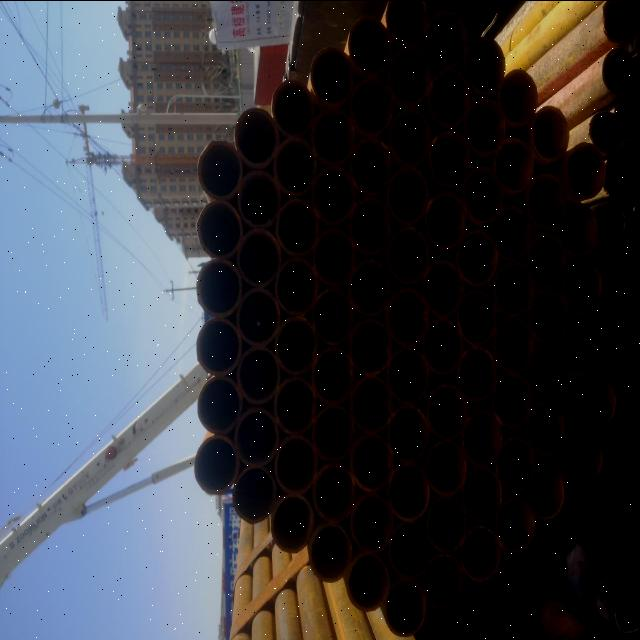pipe: (195, 258, 242, 318), (192, 436, 238, 496), (196, 376, 242, 434), (196, 318, 242, 376), (196, 200, 242, 258), (198, 140, 242, 200), (236, 344, 280, 404), (236, 286, 280, 346), (234, 108, 278, 168), (270, 494, 314, 554), (274, 434, 318, 494), (274, 316, 318, 376), (274, 256, 318, 316), (275, 197, 319, 257), (273, 136, 317, 196), (311, 165, 355, 225), (350, 493, 394, 553), (385, 286, 429, 346), (426, 68, 470, 128), (312, 463, 355, 523), (350, 434, 393, 494), (349, 136, 392, 196), (232, 465, 276, 523), (234, 408, 278, 466), (237, 228, 281, 286), (272, 376, 316, 434), (311, 404, 355, 462), (311, 107, 355, 165), (346, 554, 390, 612), (348, 77, 392, 135), (388, 520, 431, 579), (309, 523, 351, 583), (313, 226, 355, 286), (349, 258, 391, 318), (349, 196, 391, 256), (348, 16, 390, 76), (387, 462, 429, 522), (387, 404, 429, 464), (389, 107, 431, 167), (388, 46, 430, 106), (237, 170, 280, 228), (271, 79, 314, 137), (311, 346, 354, 404), (309, 48, 353, 104), (348, 319, 392, 375), (312, 288, 354, 346), (350, 376, 392, 434), (384, 578, 426, 636), (386, 346, 428, 404), (388, 227, 430, 285), (387, 167, 429, 225), (421, 553, 463, 611), (426, 382, 468, 440), (421, 260, 463, 318), (424, 191, 466, 249), (428, 130, 470, 188), (456, 230, 498, 288), (425, 12, 468, 68), (422, 318, 463, 376), (494, 437, 536, 493), (494, 261, 536, 317), (426, 496, 466, 554), (456, 288, 496, 346), (497, 68, 537, 126), (562, 258, 602, 316), (460, 467, 502, 522), (425, 440, 466, 496), (493, 317, 534, 373), (526, 401, 567, 457), (460, 526, 500, 582), (462, 410, 502, 466), (463, 167, 503, 223), (465, 98, 505, 154), (490, 206, 530, 262), (526, 344, 566, 400), (576, 374, 616, 430), (527, 232, 565, 290), (528, 173, 566, 231), (492, 374, 532, 429), (465, 38, 505, 92), (495, 499, 535, 553), (493, 138, 533, 192), (528, 290, 568, 344), (558, 203, 598, 257), (457, 347, 496, 402), (557, 316, 596, 371), (526, 464, 564, 520), (567, 142, 605, 198), (565, 430, 602, 486), (532, 106, 568, 160), (386, 1, 428, 45), (601, 48, 635, 94), (589, 112, 625, 154), (603, 155, 633, 201), (594, 202, 625, 246), (602, 0, 634, 42), (613, 94, 639, 142), (614, 590, 640, 636)
